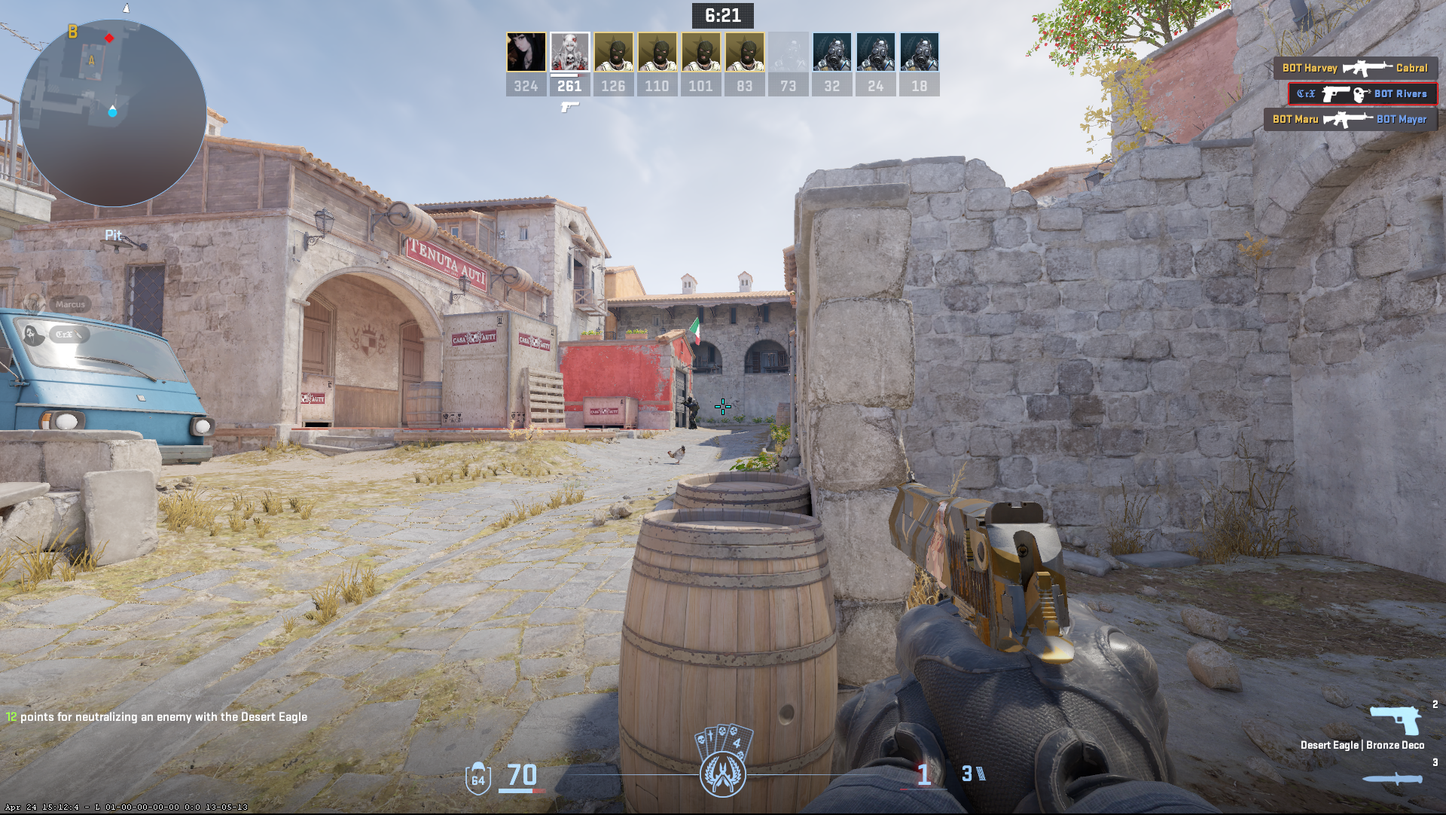CT: (681, 396, 700, 429)
